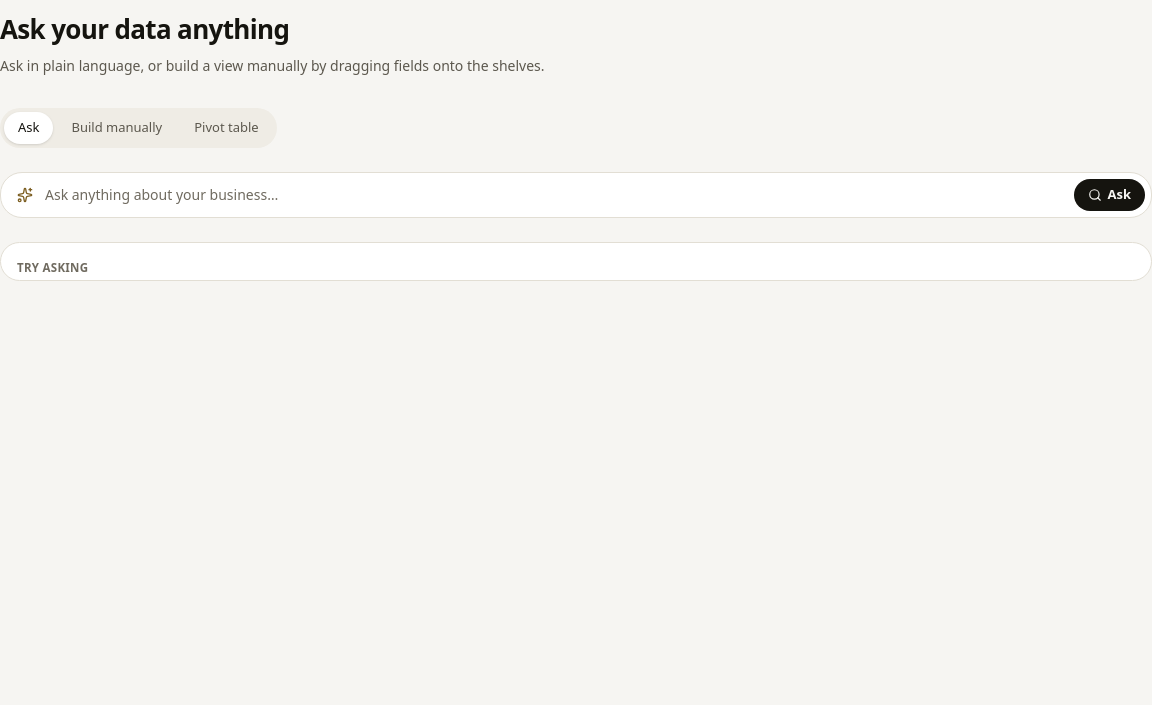
Test case: ExplorePage › resolves a typed question to a real result via the actual mock query engine
The image size is (1152, 705).
Type "How has net revenue trended over the last 12 weeks?" into the field with placeholder "Ask anything about your business…" at (553, 195), box [45,179,1062,211]
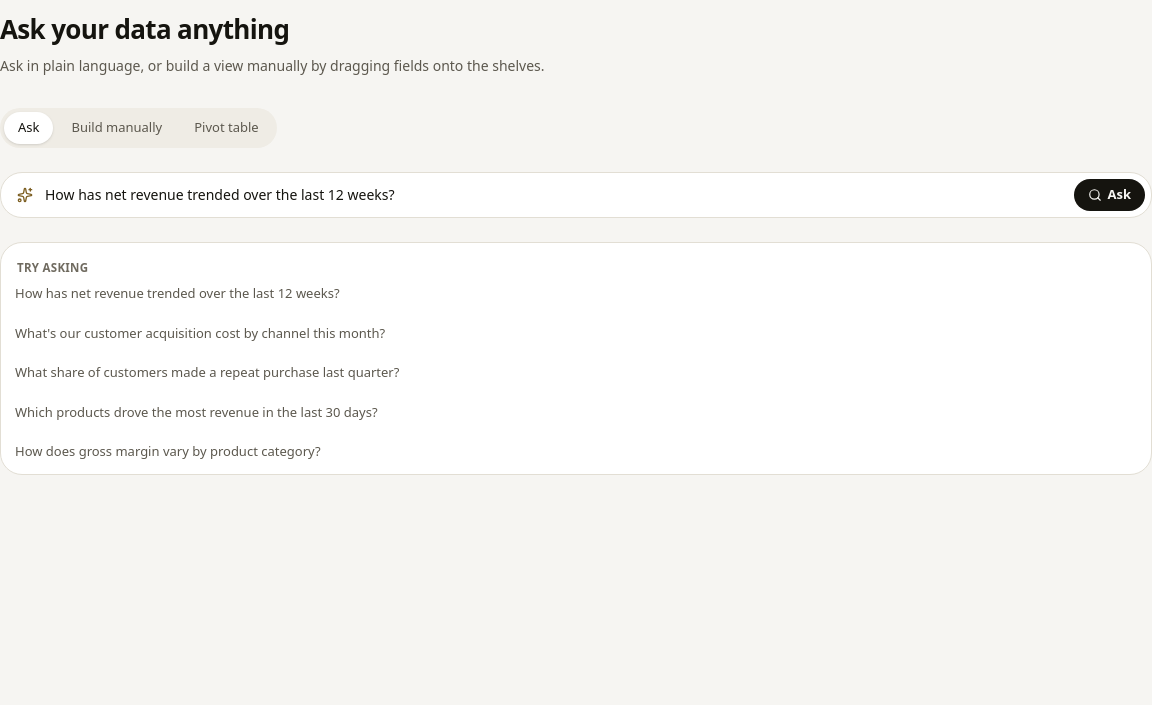
Click the button "Ask" at (1109, 195), box [1074,179,1145,211]
(page scrolled)
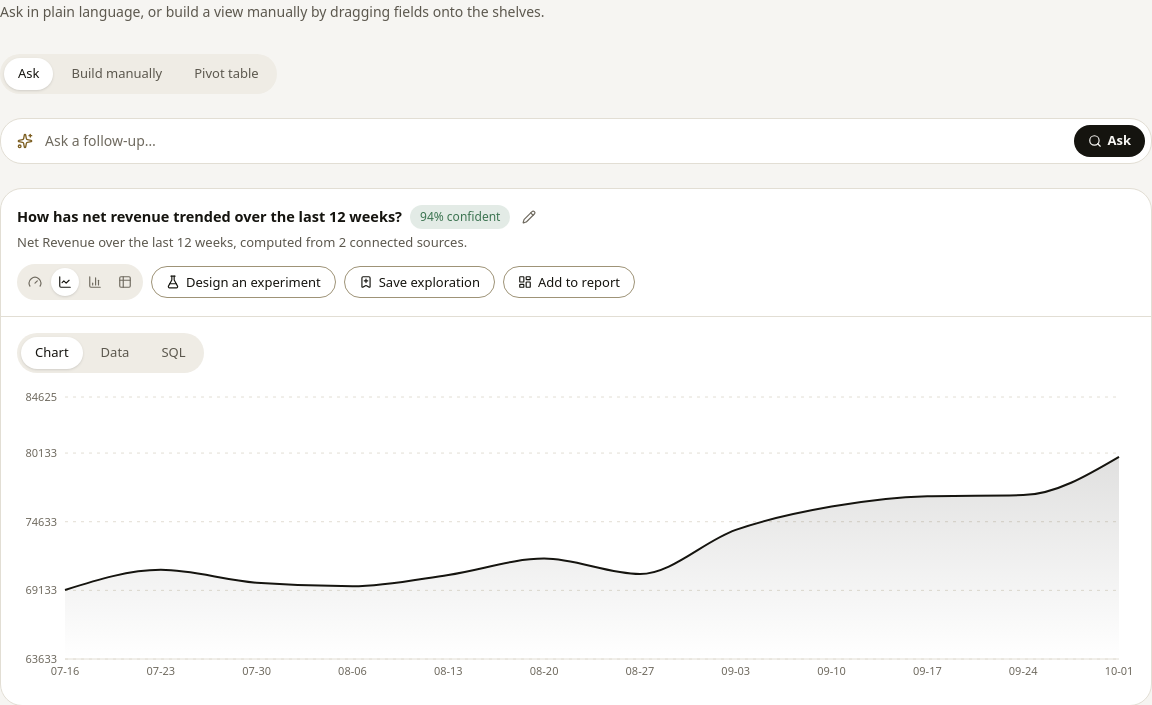
Now the text "94% confident" is shown, box [410,205,510,229]
